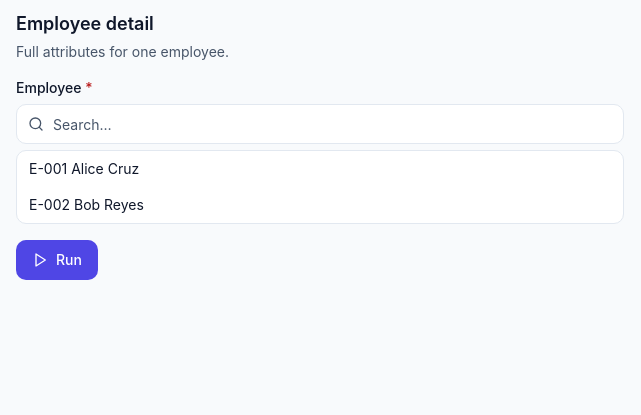
HR manifest — US1 employees + compensation › employee: picks an employee and shows their detail
Click the button "E-001 Alice Cruz". click: (84, 168)
box: 17,151 -> 623,187
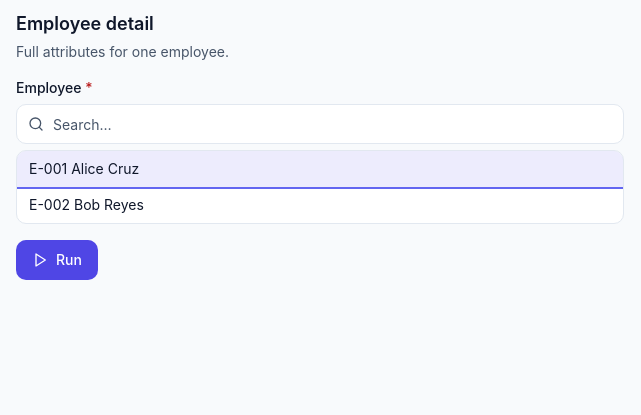
Click the button "Run". click: (57, 260)
box: 16,240 -> 98,280
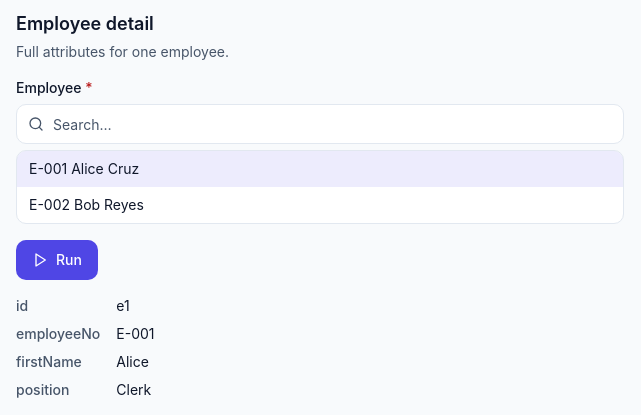
Expected: the text "Clerk" is shown, 116,381 -> 151,398
